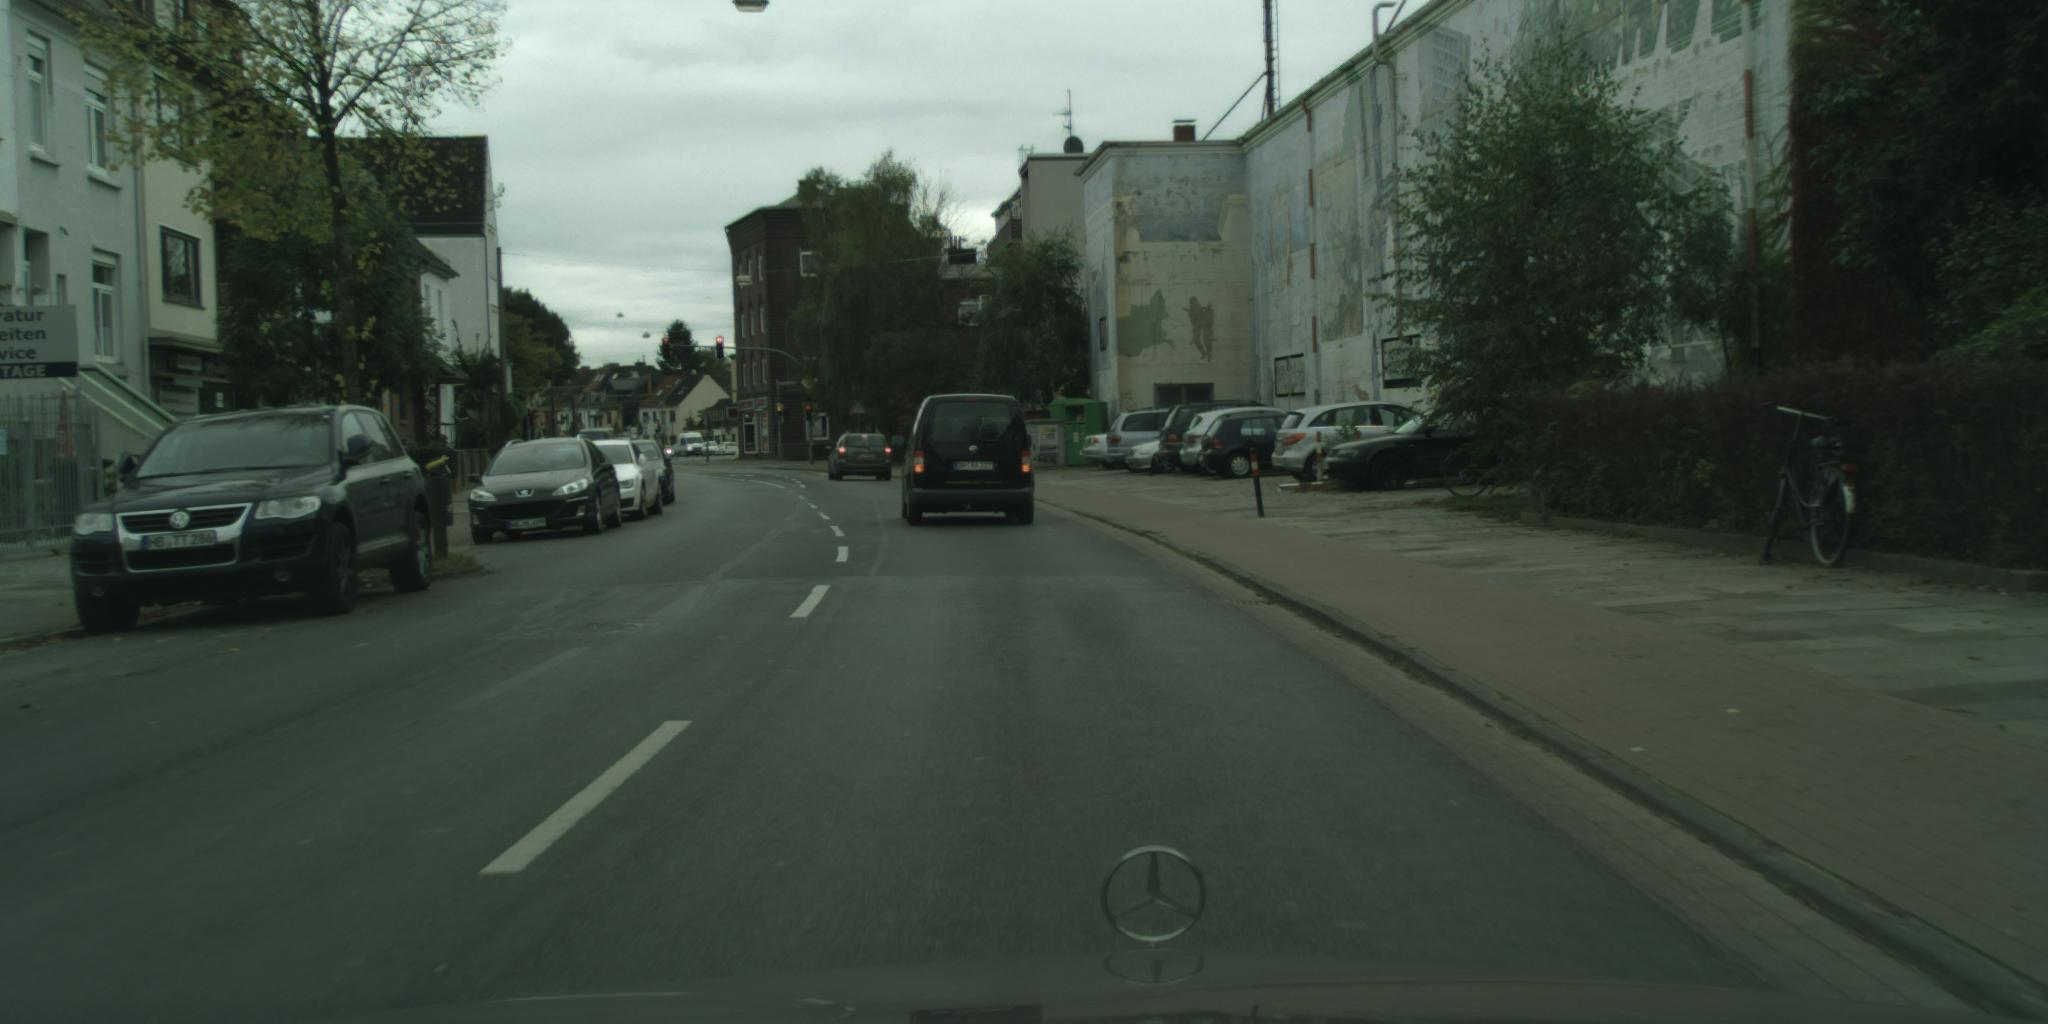bicycle: (1761, 408, 1856, 569), (1439, 448, 1486, 502)
car: (71, 405, 434, 637), (891, 393, 1036, 529), (1326, 393, 1514, 488), (470, 438, 623, 546), (1272, 402, 1432, 486), (1159, 398, 1277, 468), (1181, 406, 1296, 470), (581, 438, 664, 522), (1202, 411, 1302, 478), (1105, 409, 1179, 464), (631, 438, 677, 507), (828, 434, 893, 482), (1126, 438, 1186, 477), (1083, 430, 1131, 472), (575, 427, 618, 448)
